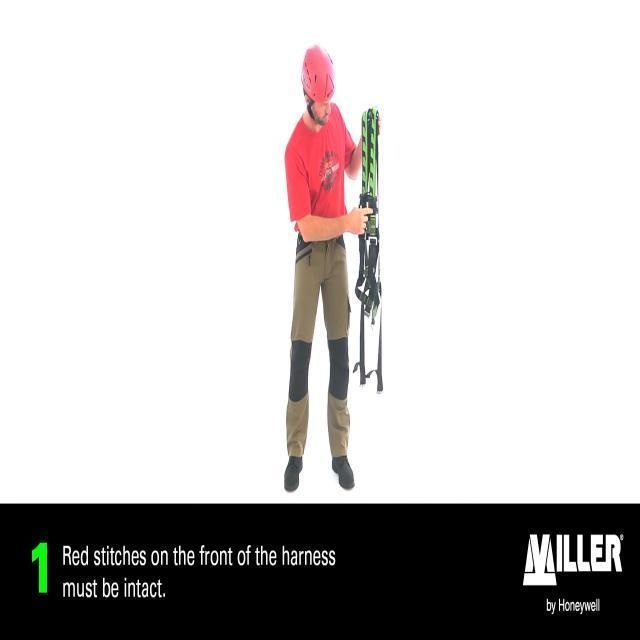Arnes_seguridad: (351, 97, 391, 395)
